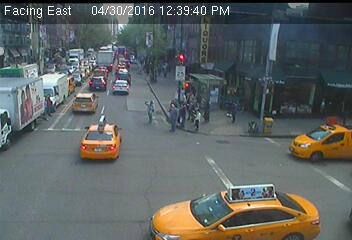neg: (175, 158, 201, 193), (81, 112, 103, 141), (277, 8, 296, 34), (195, 24, 214, 49), (266, 183, 283, 206), (246, 118, 263, 140), (121, 146, 137, 168), (230, 52, 245, 73), (288, 122, 303, 142), (29, 161, 43, 180), (44, 54, 56, 71), (213, 132, 225, 148), (133, 67, 144, 83), (81, 14, 92, 29), (107, 69, 118, 83)
pos: (159, 100, 185, 135), (139, 98, 160, 126), (224, 98, 245, 126), (38, 92, 58, 118), (187, 105, 205, 129), (183, 88, 201, 111), (158, 61, 172, 79)
